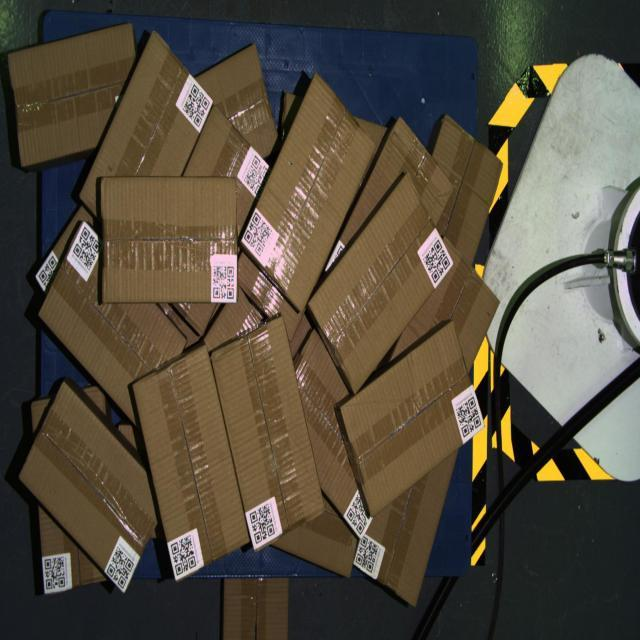box: (240, 71, 377, 313), (308, 171, 454, 394), (19, 381, 161, 595), (339, 319, 485, 517), (132, 343, 250, 582), (211, 315, 325, 553), (102, 175, 238, 302)
